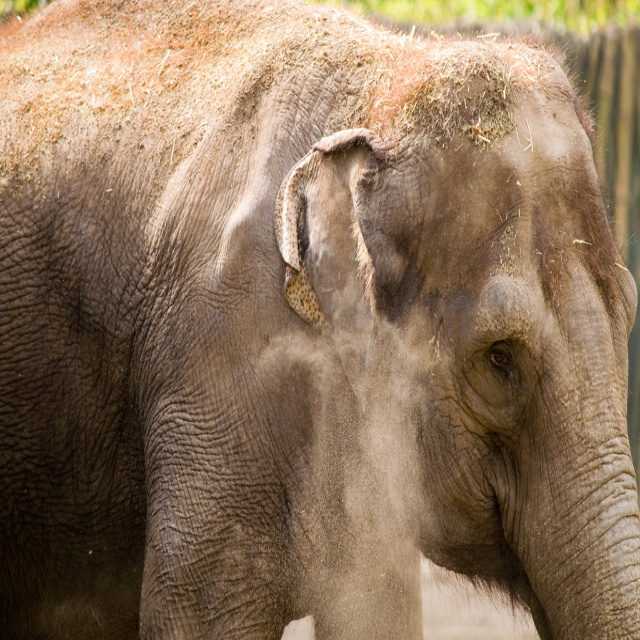Elephant: (0, 28, 640, 640)
